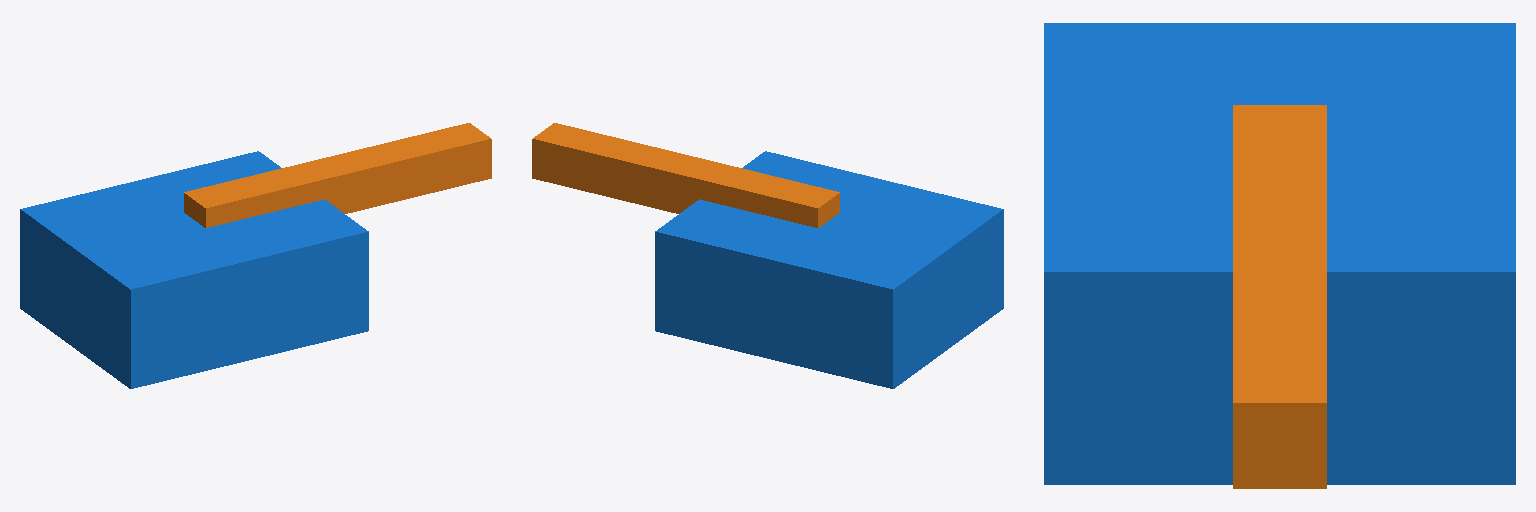
URDF robot description (joint_fixed_basic):
<?xml version="1.0"?>
<robot name="joint_fixed_basic">
    <material name="blue">
        <color rgba="0.15 0.55 0.90 1.0"/>
    </material>
    <material name="orange">
        <color rgba="0.95 0.55 0.15 1.0"/>
    </material>

    <!-- 车身 -->
    <link name="base_link">
        <visual>
            <origin xyz="0 0 0.1"/>
            <geometry>
                <box size="0.5 0.4 0.2"/>
            </geometry>
            <material name="blue"/>
        </visual>
    </link>

    <!-- 连杆：从自身原点沿X轴正方向延伸 -->
    <link name="arm_link">
        <visual>
            <origin xyz="0.3 0 0.2"/>
            <geometry>
                <box size="0.6 0.08 0.08"/>
            </geometry>
            <material name="orange"/>
        </visual>
    </link>

    <!-- 固定关节 -->
    <joint name="arm_joint" type="fixed">
        <parent link="base_link"/>
        <child link="arm_link"/>
    </joint>
</robot>

--- Render facts (derived) ---
3 views of the same robot in one strip: view 1: azimuth 30°, elevation 25°; view 2: azimuth 150°, elevation 25°; view 3: azimuth 270°, elevation 25° (orthographic).
Robot: joint_fixed_basic — 2 links, 1 joints (1 fixed); root link base_link; default pose: all joints at 0.
Links seen in each view (by area): view 1: base_link, arm_link; view 2: base_link, arm_link; view 3: base_link, arm_link.
Boxes of the visible links, x1,y1,x2,y2 form: base_link: [20, 151, 368, 388]; arm_link: [184, 123, 491, 227]; base_link: [655, 151, 1003, 388]; arm_link: [532, 123, 839, 227]; base_link: [1044, 23, 1515, 484]; arm_link: [1233, 105, 1326, 488].
Bounding box of the posed robot: 0.85 × 0.4 × 0.24 m (x, y, z).
Geometry: primitives only (box / cylinder / sphere), no mesh files.
